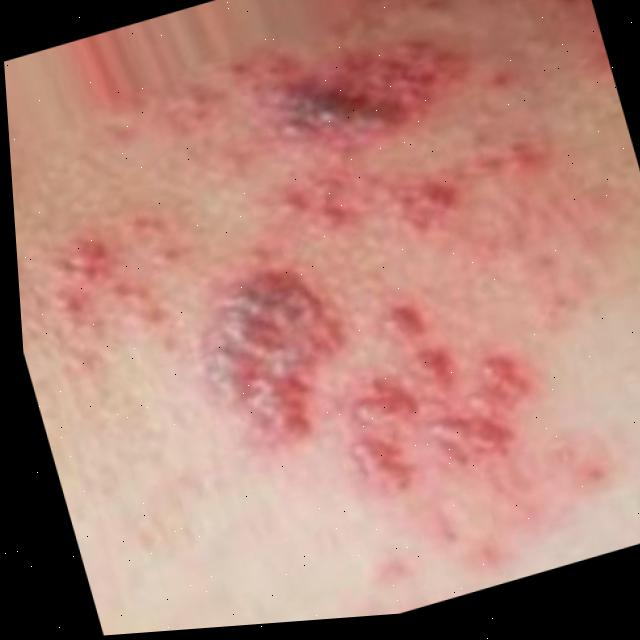Shingles: (130, 3, 561, 547)
